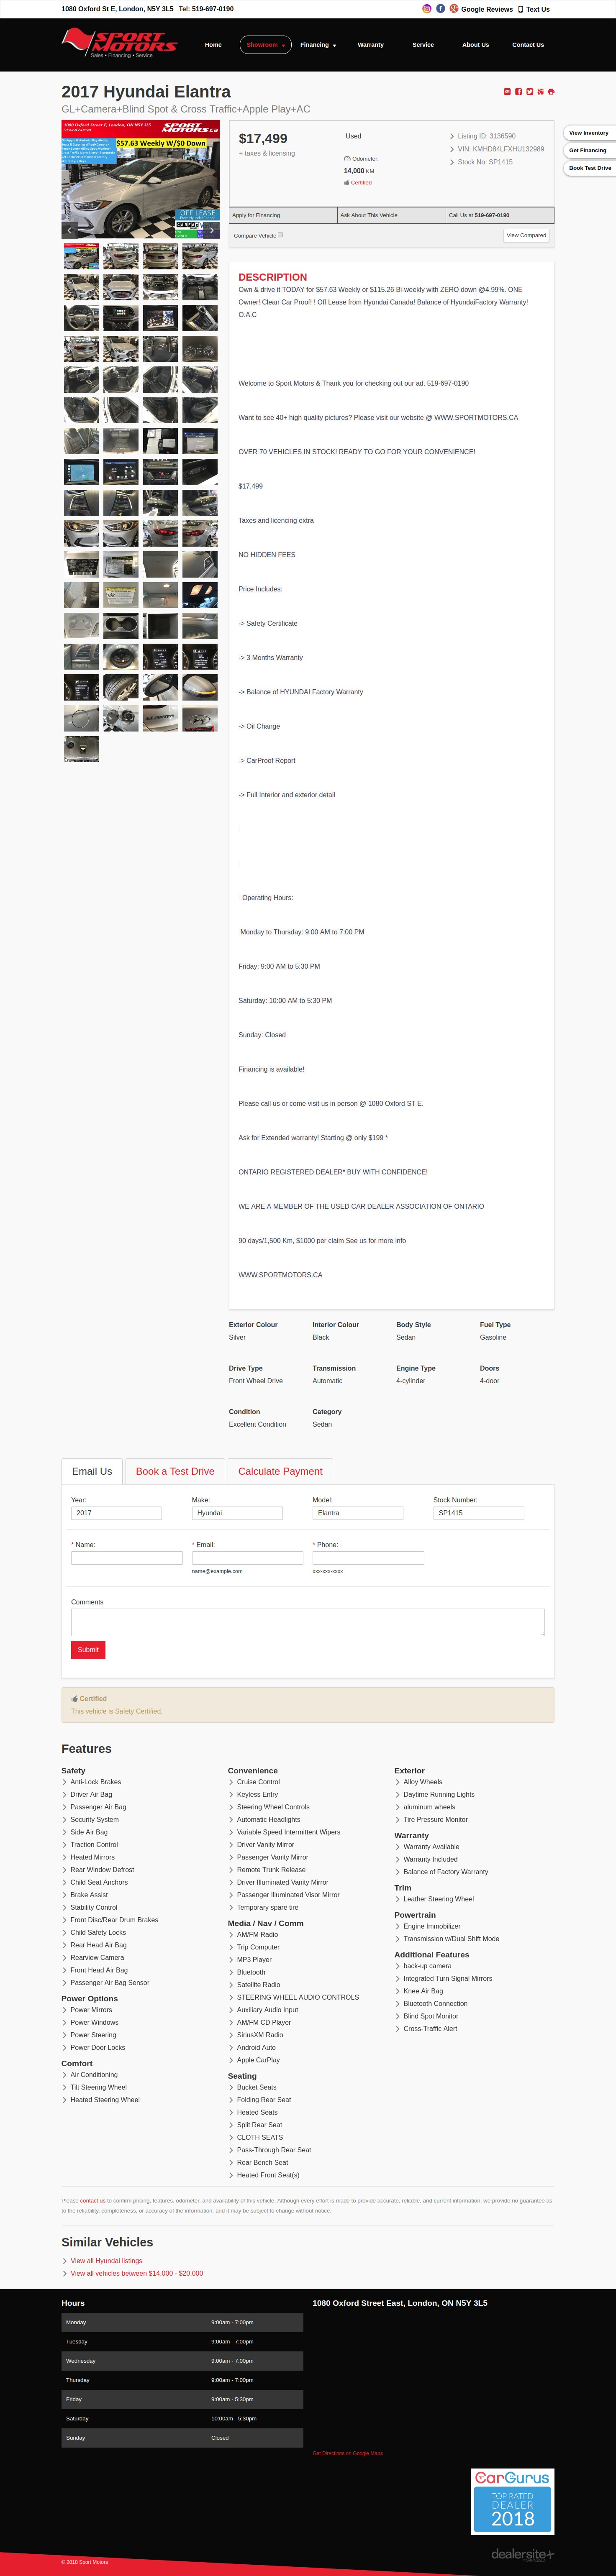car: (210, 228, 214, 233)
